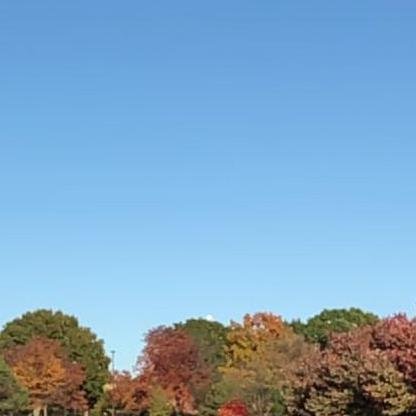golfball: (204, 312, 212, 317)
